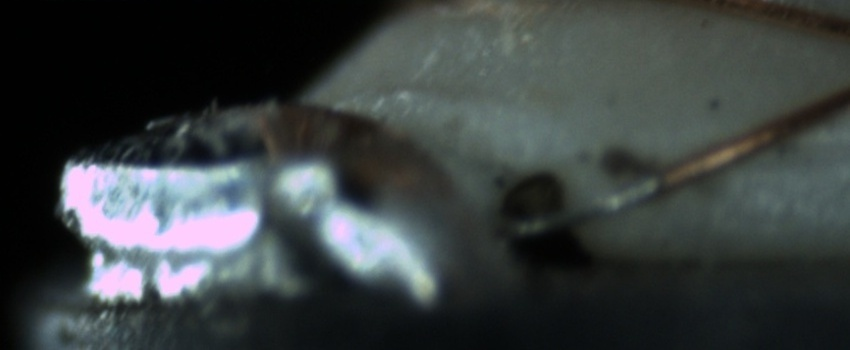DL: (761, 116, 849, 190)
TS: (507, 171, 666, 239)
